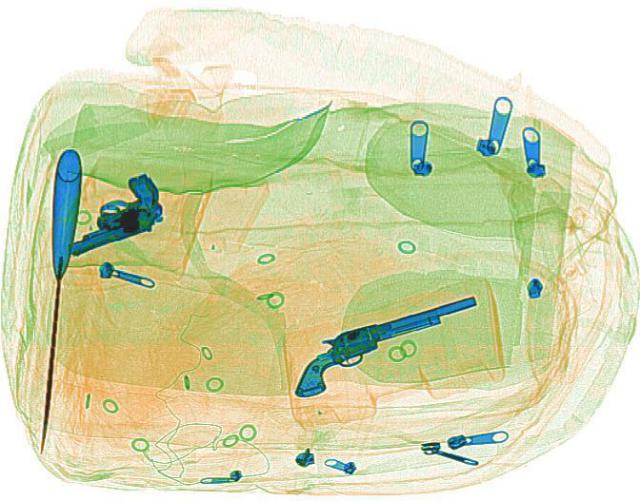Gun: (270, 294, 500, 398)
Knife: (24, 146, 84, 453), (39, 170, 181, 257)
